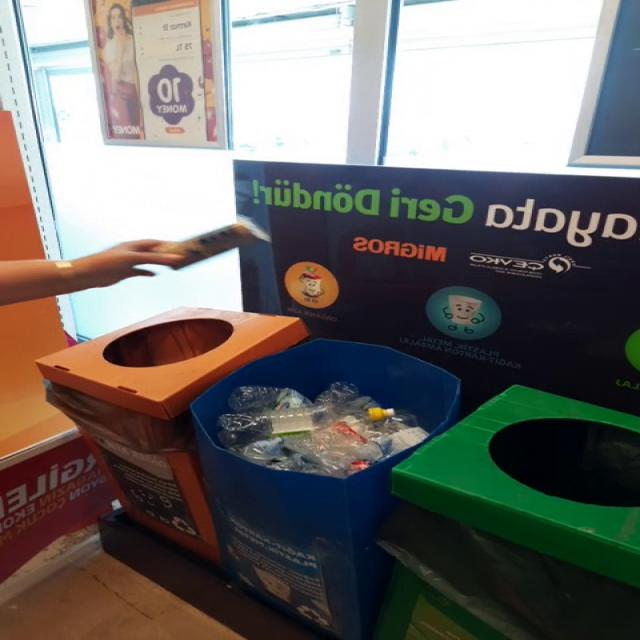bin: (36, 308, 460, 640), (392, 386, 640, 587)
metal: (153, 216, 267, 269)
